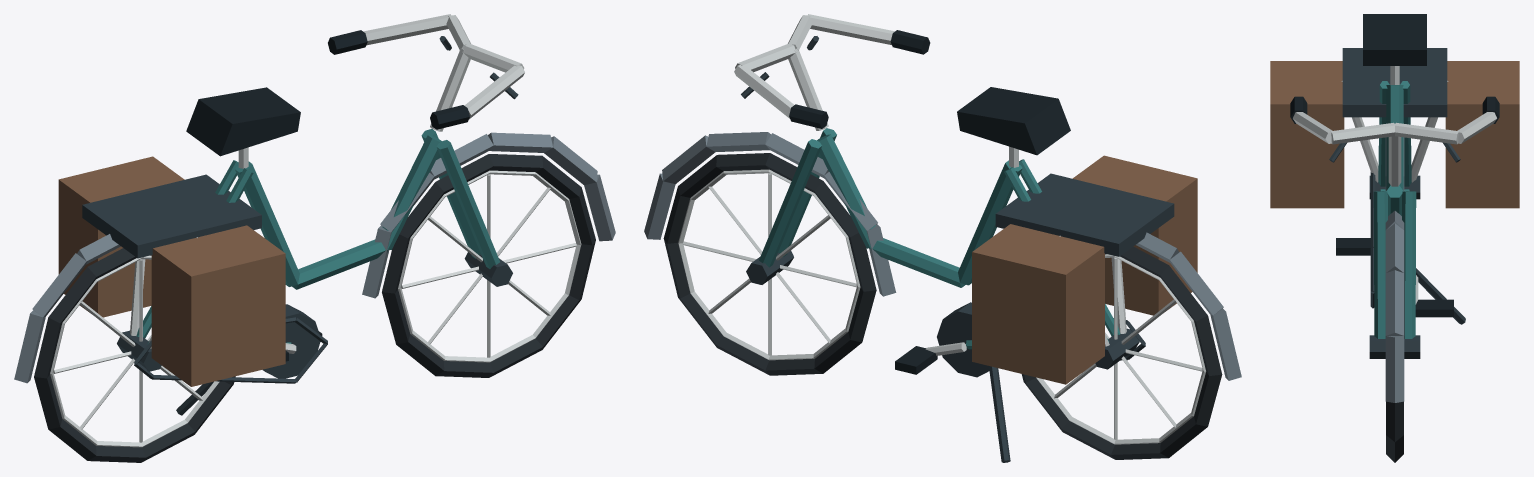
Rendered from b03_stepthrough_city_bicycle.glb.
The picture shows the model from 3 angles, left to right: view 1: azimuth 30°, elevation 25°; view 2: azimuth 150°, elevation 25°; view 3: azimuth 270°, elevation 25°; orthographic projection. The views are drawn at different scales.
Parts seen in each view (by area): view 1: b03_stepthrough_city_bicycle; view 2: b03_stepthrough_city_bicycle; view 3: b03_stepthrough_city_bicycle.
Boxes of the visible parts, bbox=[...] form: b03_stepthrough_city_bicycle: bbox=[14, 14, 615, 462]; b03_stepthrough_city_bicycle: bbox=[644, 14, 1241, 462]; b03_stepthrough_city_bicycle: bbox=[1270, 14, 1519, 462].
Bounding box in the file's own units: 1.94 × 1.04 × 0.74.
